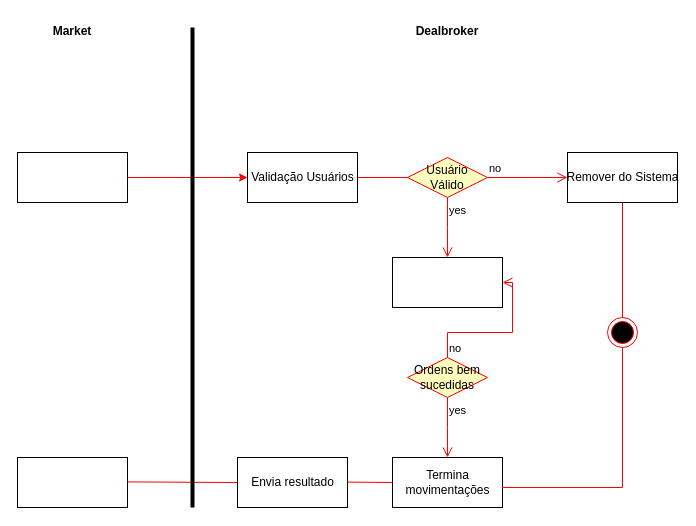
Some shapes in this 696 by 526 pixel diagram are drawn without their labels. The centre of each missing label's shape, as x and y in pixels:
"Envia OC e OV" goes at [72,177].
"Realiza OC e OV" goes at [447,282].
"Recebe resultado" goes at [72,482].
